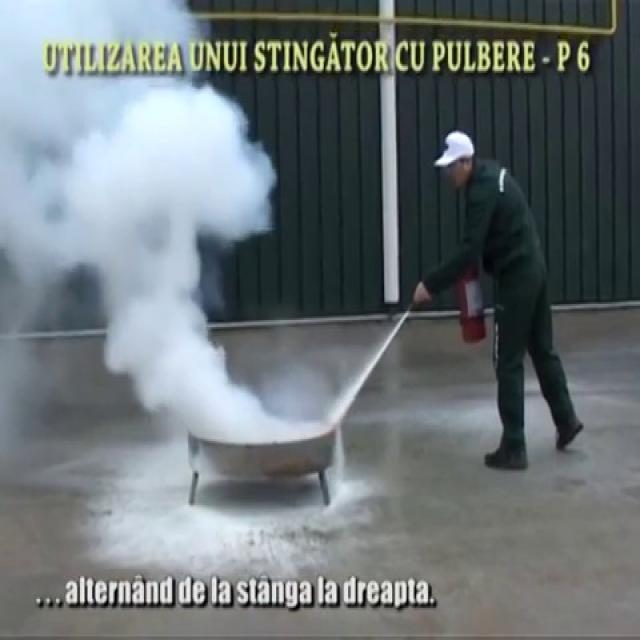Smoke: (0, 0, 284, 448)
